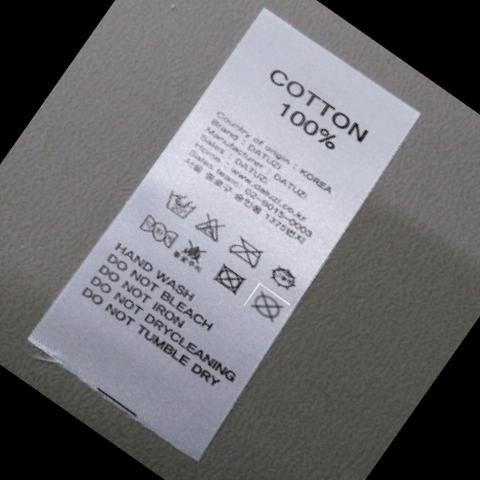DN_dry_clean: (249, 287, 292, 323)
DN_iron: (227, 236, 266, 265)
DN_tumble_dry: (213, 265, 249, 292)
hand_wash: (166, 191, 198, 220)
line_dry_in_shade: (271, 263, 303, 291)
non_chlorine_bleach: (195, 216, 228, 241)
wring: (137, 214, 178, 249)
